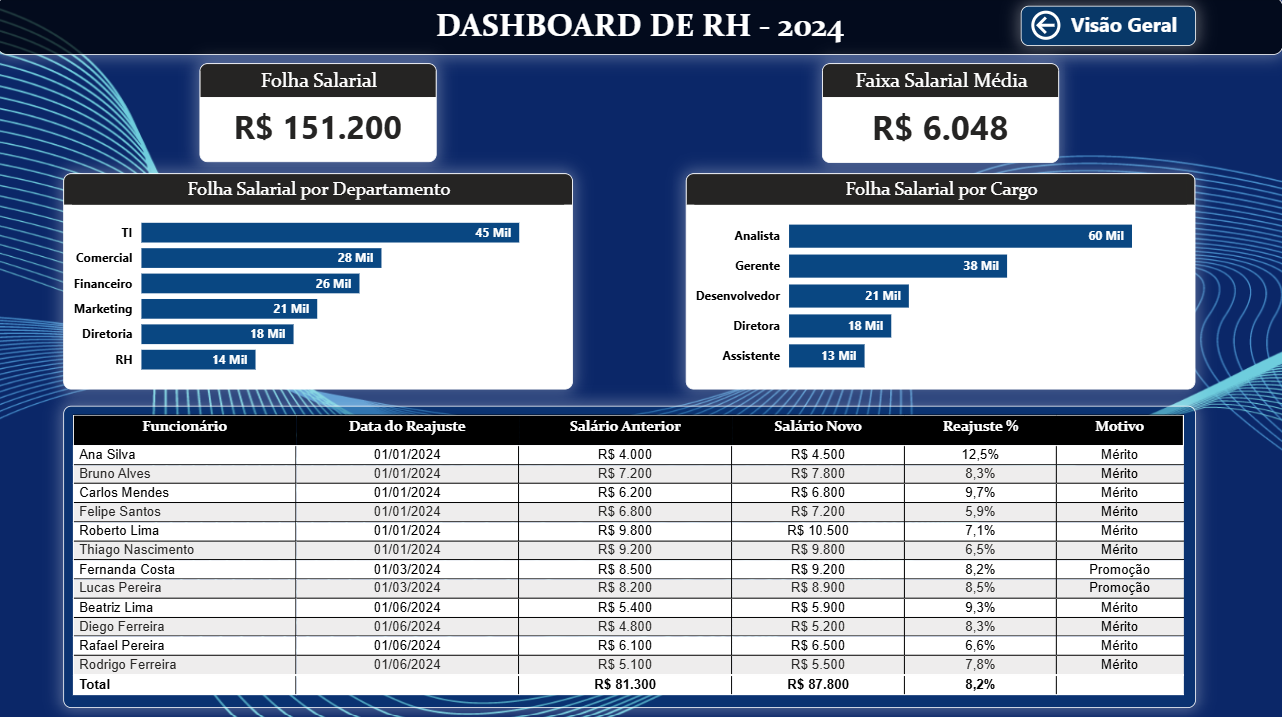

This screenshot's page, from the dashboard's own definition file:
{"tool":"powerbi","page":{"name":"Custo com Pessoal","canvas":[1280,720],"ordinal":3},"visuals":[{"type":"textbox","title":"hffhfffffff","box":[0,0,1280,57.2],"z":0},{"type":"cardVisual","title":"Folha Salarial","fields":{"Data":["historico_salarios.Folha Total Texto"]},"box":[201.5,65.9,236.4,98.3],"z":1000},{"type":"cardVisual","title":"Faixa Salarial Média","fields":{"Data":["historico_salarios.Salario Medio Texto"]},"box":[821,65.9,236.4,99.5],"z":2000},{"type":"clusteredBarChart","title":"Folha Salarial por Departamento","fields":{"Category":["funcionarios.departamento"],"Y":["historico_salarios.Folha Total"]},"box":[65.9,175.4,507.5,215.2],"z":3000},{"type":"clusteredBarChart","title":"Folha Salarial por Cargo","fields":{"Category":["funcionarios.cargo"],"Y":["historico_salarios.Folha Total"]},"box":[685.4,175.4,507.5,215.2],"z":4000},{"type":"tableEx","fields":{"Values":["historico_salarios.Nome Funcionario","historico_salarios.data_reajuste.Variation.Hierarquia de datas.Ano","historico_salarios.Salario Anterior Texto","historico_salarios.Salario Novo Texto","historico_salarios.Percentual Reajuste Texto","historico_salarios.motivo"]},"box":[65.9,406.8,1127,301],"z":5000},{"type":"actionButton","box":[1018.8,8.7,174.2,39.8],"z":6000}]}

Visuals, with their boxes in screenshot pixels (x1, y1, x2, y2), scaled from the page's 1280x720 canvas onto the 1282x717 screenshot:
"hffhfffffff" textbox: [x1=0, y1=0, x2=1281, y2=57]
"Folha Salarial" cardVisual: [x1=202, y1=66, x2=439, y2=164]
"Faixa Salarial Média" cardVisual: [x1=822, y1=66, x2=1059, y2=165]
"Folha Salarial por Departamento" clusteredBarChart: [x1=66, y1=175, x2=574, y2=389]
"Folha Salarial por Cargo" clusteredBarChart: [x1=686, y1=175, x2=1195, y2=389]
tableEx - historico_salarios.Nome Funcionario x historico_salarios.data_reajuste.Variation.Hierarquia de datas.Ano: [x1=66, y1=405, x2=1195, y2=705]
actionButton: [x1=1020, y1=9, x2=1195, y2=48]
